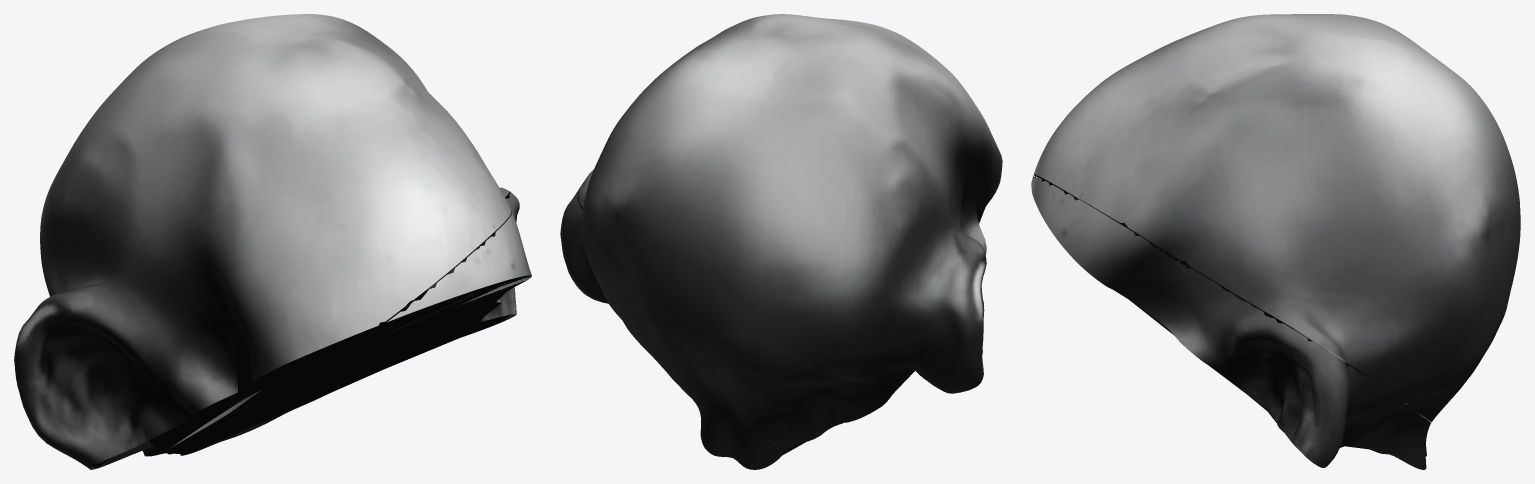
Rendered from alien2back-compressed.glb.
The picture shows the model from 3 angles, left to right: view 1: azimuth 30°, elevation 25°; view 2: azimuth 150°, elevation 25°; view 3: azimuth 270°, elevation 25°; orthographic projection. The views are drawn at different scales.
Visible parts, largest first — view 1: Alien_Overlord_0927095325.001_Material.005_0_cell; view 2: Alien_Overlord_0927095325.001_Material.005_0_cell; view 3: Alien_Overlord_0927095325.001_Material.005_0_cell.
Boxes of the visible parts, box(x1,y1,x2,y2) form: Alien_Overlord_0927095325.001_Material.005_0_cell: box(14, 14, 531, 469); Alien_Overlord_0927095325.001_Material.005_0_cell: box(560, 14, 1002, 469); Alien_Overlord_0927095325.001_Material.005_0_cell: box(1031, 14, 1520, 469).
Size of the model in its own units: 0.8509 by 0.736 by 0.7703.
Materials: 1 (1 with a texture image).
